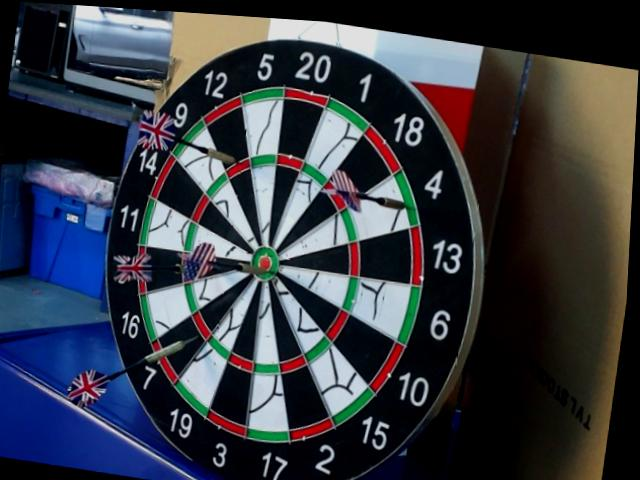bullseye: (247, 250, 280, 276)
double_12: (225, 159, 249, 176)
double_4: (395, 170, 421, 229)
single_7: (158, 319, 204, 368)
triple_8: (180, 253, 201, 283)
